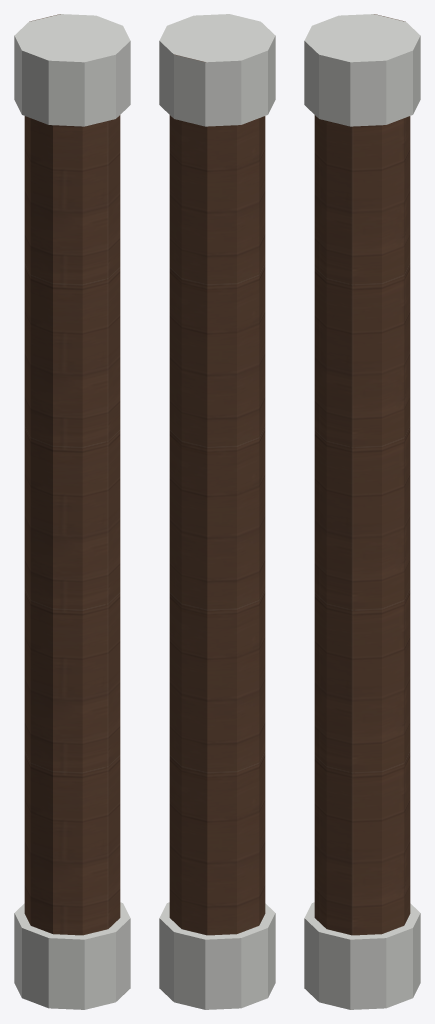
Rendered from Props_BasementBeams.fbx.
The picture shows the model from 3 angles, left to right: view 1: azimuth 30°, elevation 25°; view 2: azimuth 150°, elevation 25°; view 3: azimuth 330°, elevation 25°; orthographic projection.
Visible parts, largest first — view 1: Props_BasementBeams; view 2: Props_BasementBeams; view 3: Props_BasementBeams.
Boxes of the visible parts, x1,y1,x2,y2 form: Props_BasementBeams: [14, 14, 130, 1009]; Props_BasementBeams: [159, 14, 275, 1009]; Props_BasementBeams: [304, 14, 420, 1009].
Size of the model in its own units: 29.05 by 260 by 27.63.
1 material, 1 textured.
